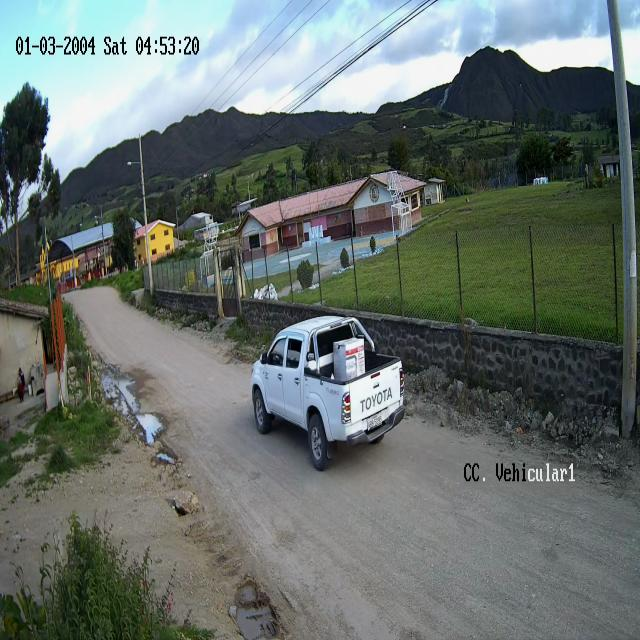CMT: (250, 317, 405, 471)
